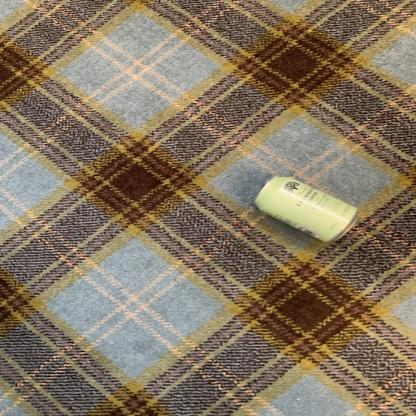trash: (255, 175, 362, 246)
